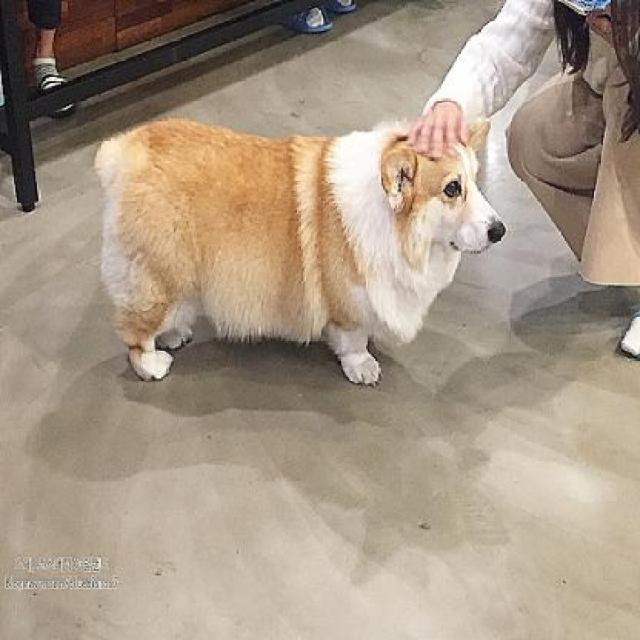Dog: (92, 118, 505, 394)
